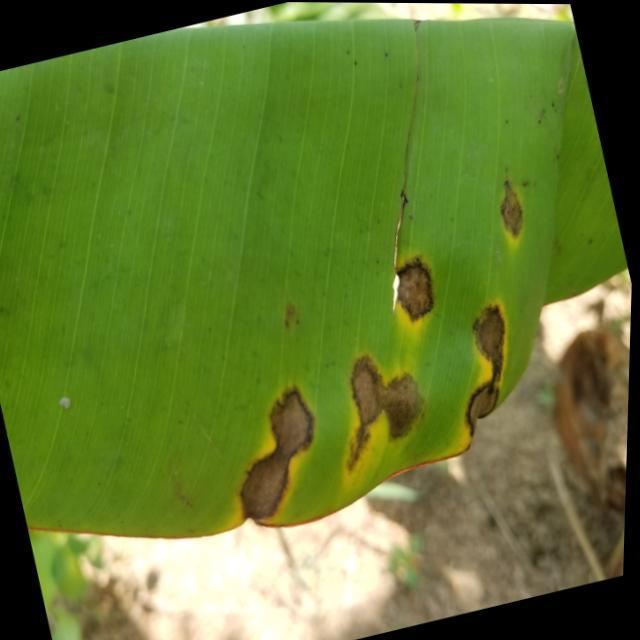Early_rust: (156, 129, 585, 557)
